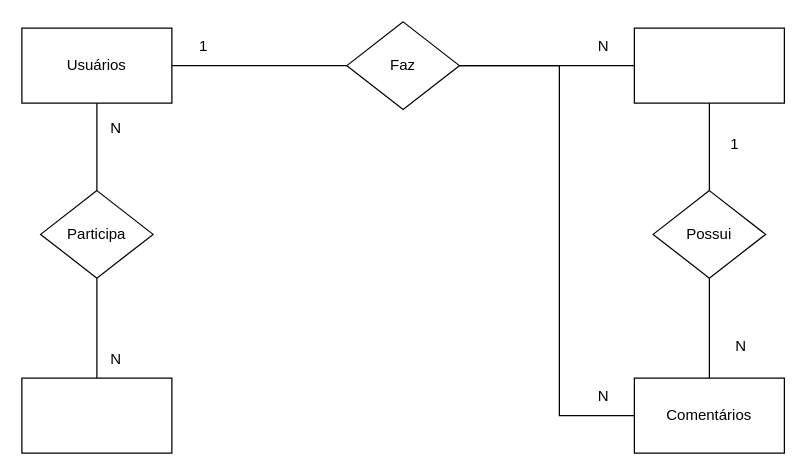
This 806x475 diagram has some shape labels left out. Each missing label, with the box of its shape:
Chats: (21, 377, 172, 453)
Posts: (633, 27, 784, 103)
